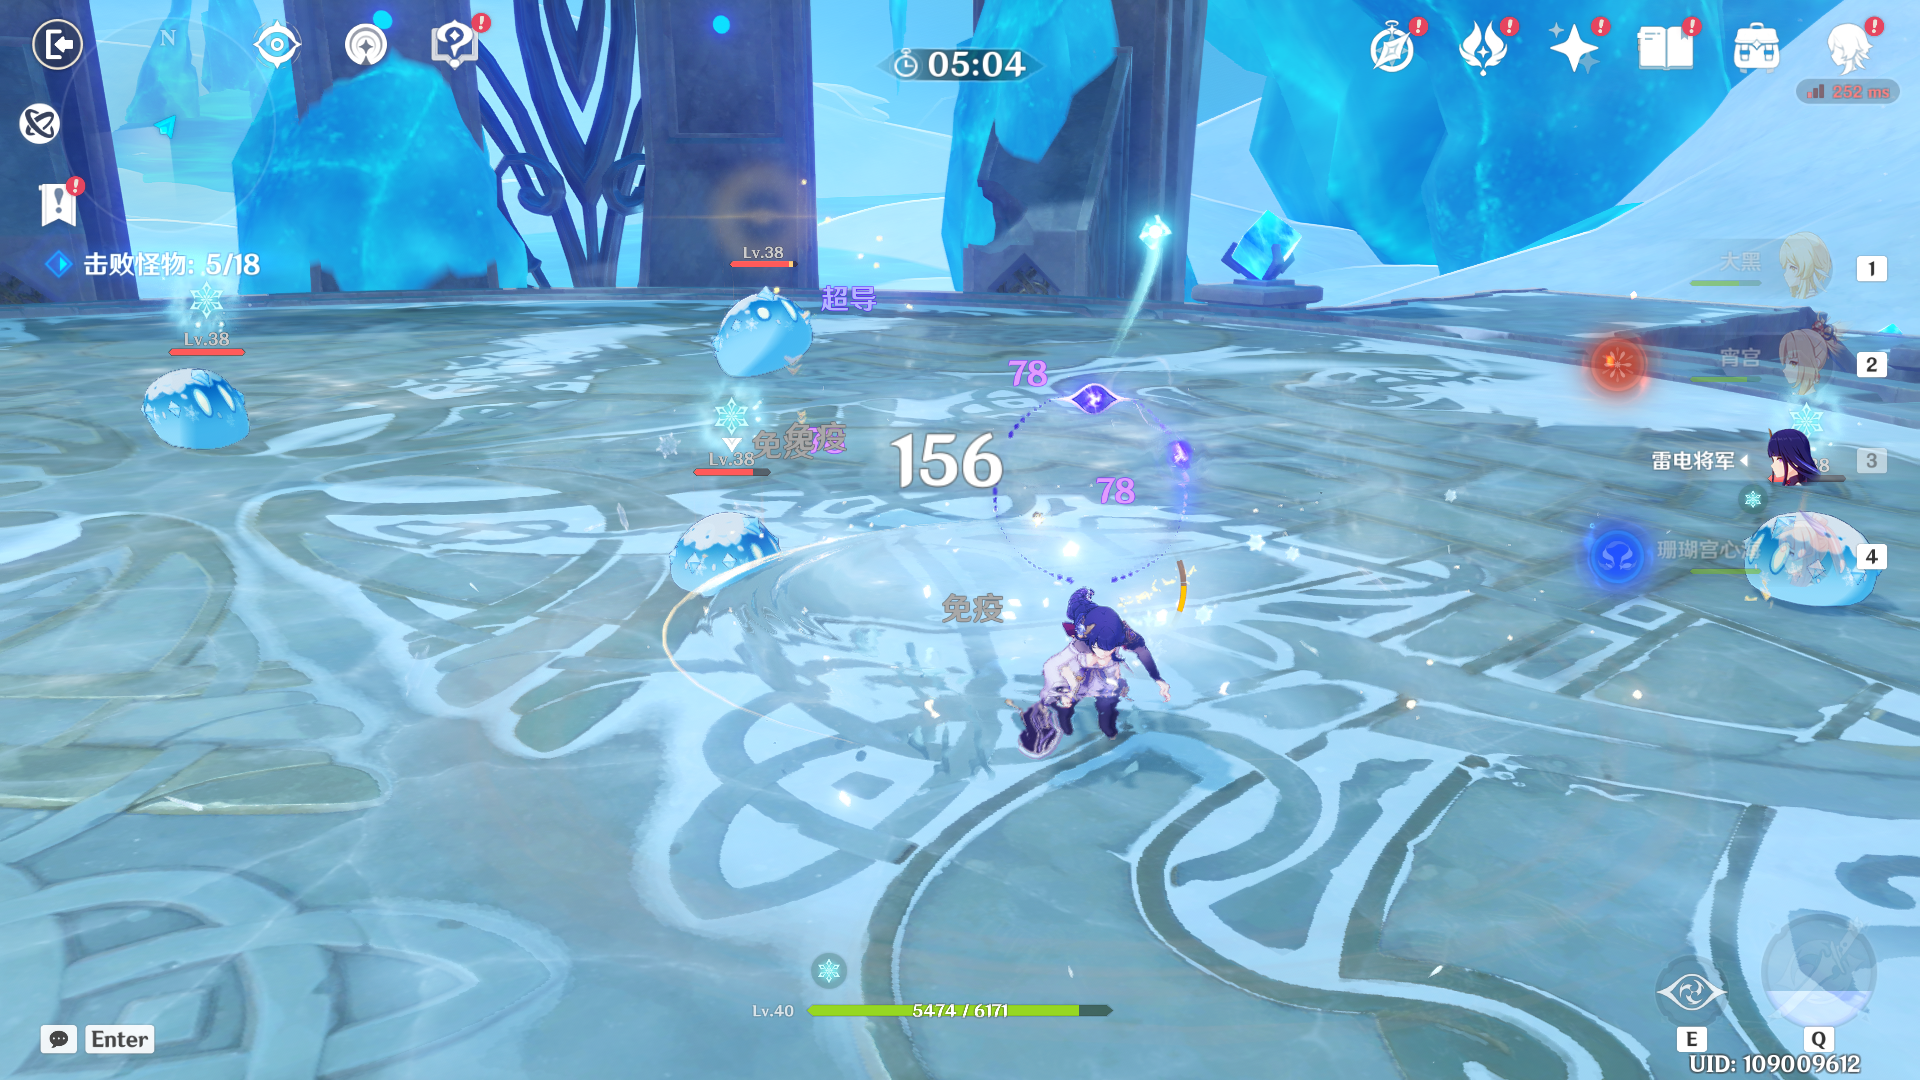character: (993, 575, 1193, 771)
slime: (640, 502, 796, 609), (142, 357, 273, 467), (687, 287, 829, 388)
